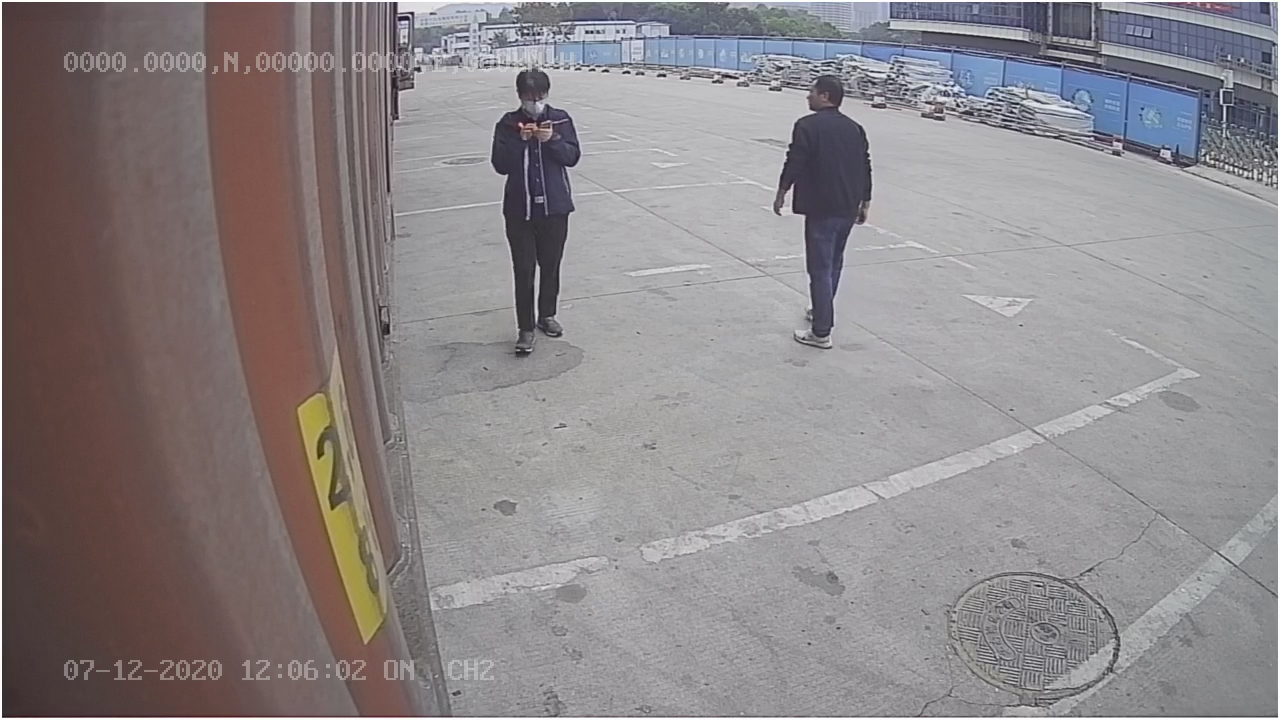person: (491, 68, 585, 357), (774, 71, 871, 350)
